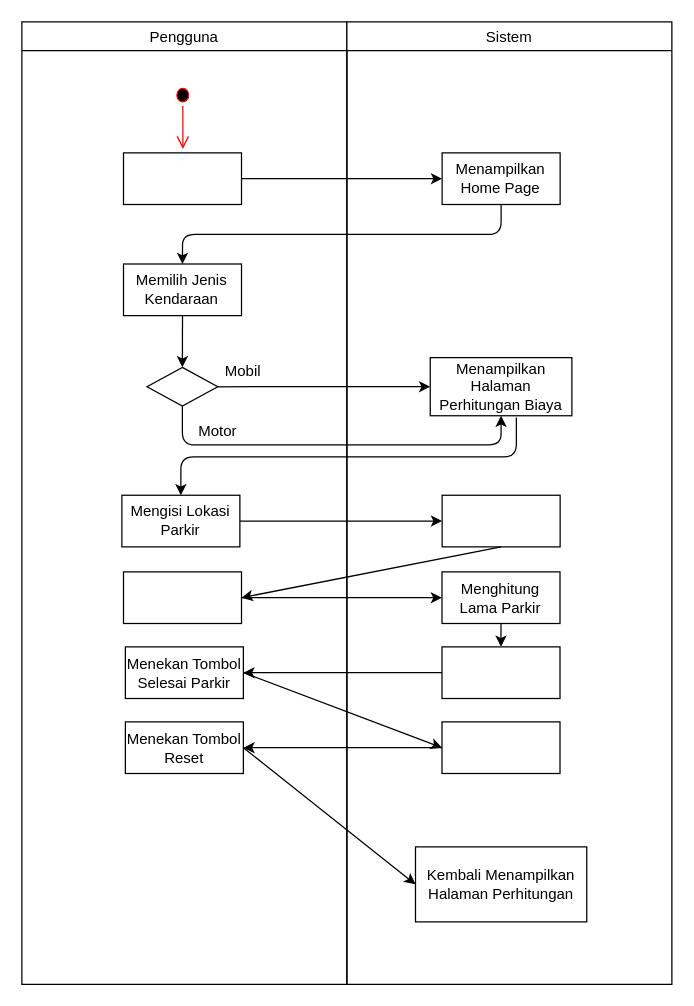
Some shapes in this 694 by 1006 pixel diagram are drawn without their labels. Here are the shapes that lost their labels. From the top down, the centre of each, then its label:
pixel 182 178: Membuka Aplikasi Parkuy
pixel 500 520: Menampilkan Tarif Parkir Awal
pixel 182 597: Menekan Tombol Mulai Parkir
pixel 500 672: Menghitung Jumlah Biaya
pixel 500 747: Menampilkan Durasi & Tarif Akhir
